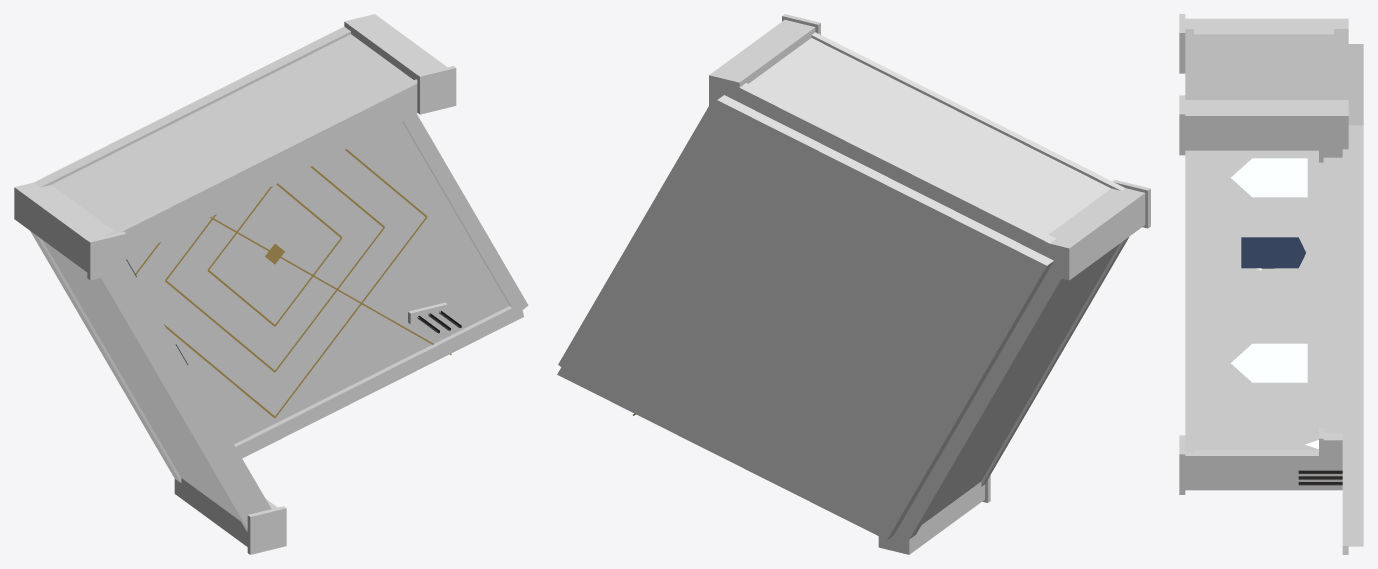
Rendered from kernel_duelist.glb.
3 views of the same model, side by side, from view 1: azimuth 30°, elevation 25°; view 2: azimuth 150°, elevation 25°; view 3: azimuth 270°, elevation 25° (orthographic). The views are drawn at different scales.
Visible parts, largest first — view 1: floor-plane, wall-0-body, wall-0-cornice, wall-1-cornice, wall-1-body, kerb-1, pier-0, floor-diamond-court, kerb-0, wall-0-plinth, pier-2, wall-1-plinth (+5 smaller); view 2: floor-slab, wall-0-body, wall-1-body, wall-0-plinth, wall-1-plinth, pier-0, pier-2, wall-0-cornice, pier-1, kerb-0, wall-1-cornice; view 3: wall-1-body, wall-0-body, pier-2, floor-slab, pier-1, kerb-0, wall-1-cornice, wall-1-window-pane-1, wall-1-window-pane-0, pier-0, wall-1-plinth, wall-1-window-frames (+9 smaller).
Part boxes in pixels (x1,y1,x2,y2): floor-plane: (127, 121, 509, 444); wall-0-body: (51, 34, 413, 230); wall-0-cornice: (106, 79, 417, 259); wall-1-cornice: (99, 260, 271, 531); wall-1-body: (42, 240, 240, 520); kerb-1: (234, 304, 523, 458); pier-0: (14, 182, 113, 271); floor-diamond-court: (135, 149, 451, 418); kerb-0: (402, 114, 528, 311); wall-0-plinth: (34, 26, 350, 187); pier-2: (344, 14, 446, 79); wall-1-plinth: (30, 231, 181, 482); floor-slab: (557, 95, 1053, 540); wall-0-body: (749, 38, 1110, 234); wall-1-body: (922, 243, 1119, 524); wall-0-plinth: (725, 82, 1056, 268); wall-1-plinth: (894, 251, 1065, 544); pier-0: (1039, 188, 1145, 280); pier-2: (709, 20, 815, 107); wall-0-cornice: (811, 32, 1125, 190); pier-1: (878, 482, 984, 554); kerb-0: (558, 90, 723, 366); wall-1-cornice: (981, 237, 1128, 486); wall-1-body: (1194, 150, 1333, 450); wall-0-body: (1194, 34, 1333, 99); pier-2: (1185, 100, 1348, 150); floor-slab: (1349, 44, 1363, 546); pier-1: (1185, 450, 1342, 490); kerb-0: (1342, 149, 1348, 546); wall-1-cornice: (1185, 150, 1193, 451); wall-1-window-pane-1: (1231, 158, 1307, 197); wall-1-window-pane-0: (1231, 343, 1307, 382); pier-0: (1185, 18, 1348, 34); wall-1-plinth: (1334, 157, 1342, 432); wall-1-window-frames: (1227, 154, 1311, 386).
Size of the model in its own units: 17.25 by 14.01 by 4.98.
